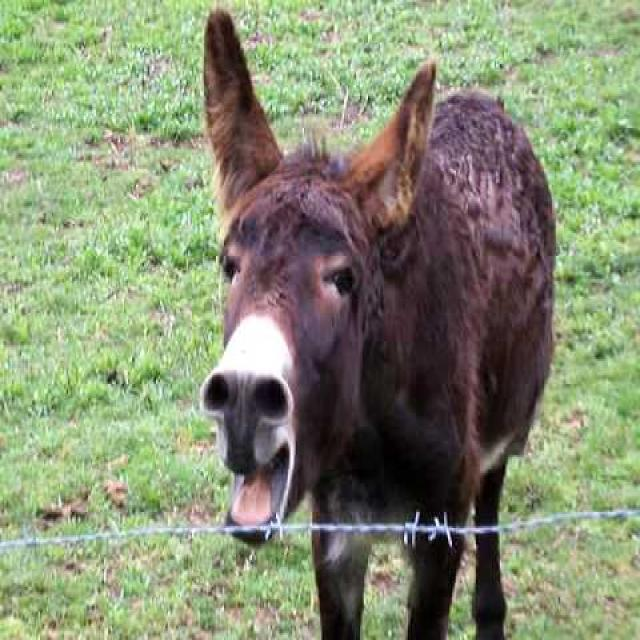Donkey: (202, 5, 556, 640)
